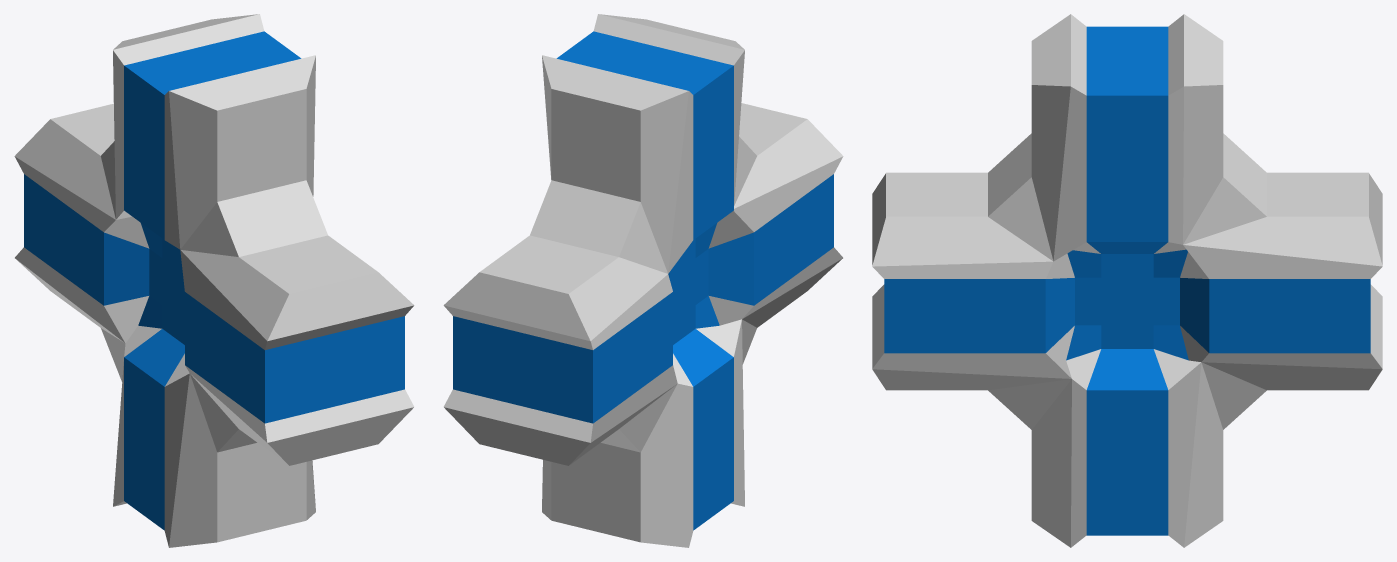
File: Powerup3.fbx
3 renders of one model, left to right at view 1: azimuth 30°, elevation 25°; view 2: azimuth 150°, elevation 25°; view 3: azimuth 270°, elevation 25°, orthographic.
Visible parts, largest first — view 1: Cube; view 2: Cube; view 3: Cube.
Boxes of the visible parts, x1,y1,x2,y2 form: Cube: [14, 14, 414, 547]; Cube: [443, 14, 843, 547]; Cube: [872, 14, 1382, 547].
Bounding box in the file's own units: 1.79 × 5.32 × 5.33.
